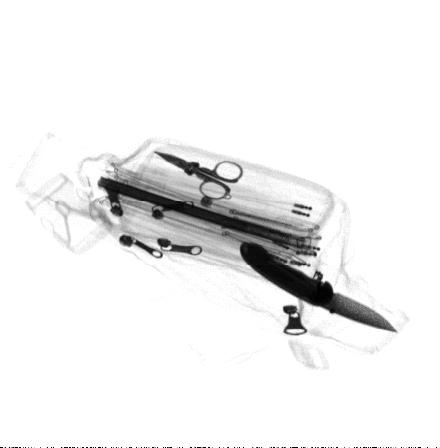Knife: (239, 241, 400, 332)
Scissors: (153, 150, 245, 201)
